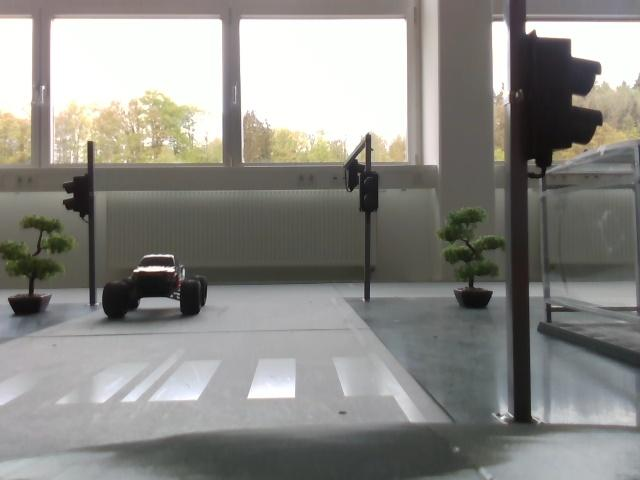car: (97, 248, 228, 325)
potted plant: (445, 199, 510, 325), (1, 201, 69, 319)
traffic light: (514, 38, 602, 156), (57, 170, 97, 222), (352, 172, 387, 214)
